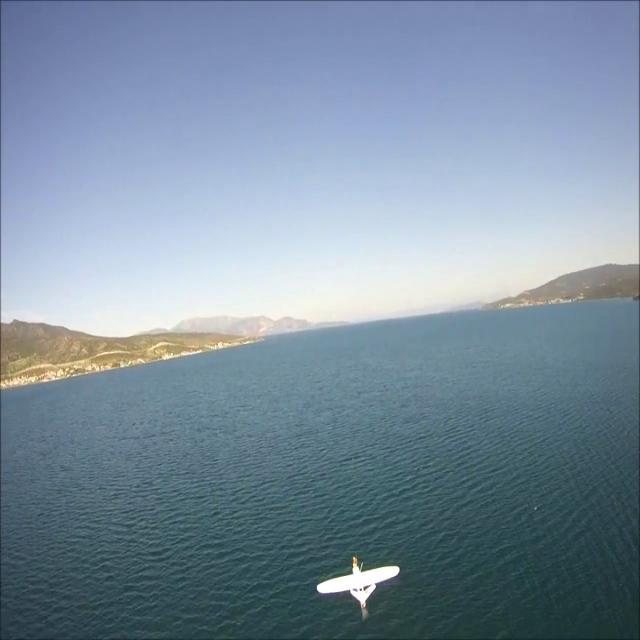iha: (350, 581, 370, 583)
